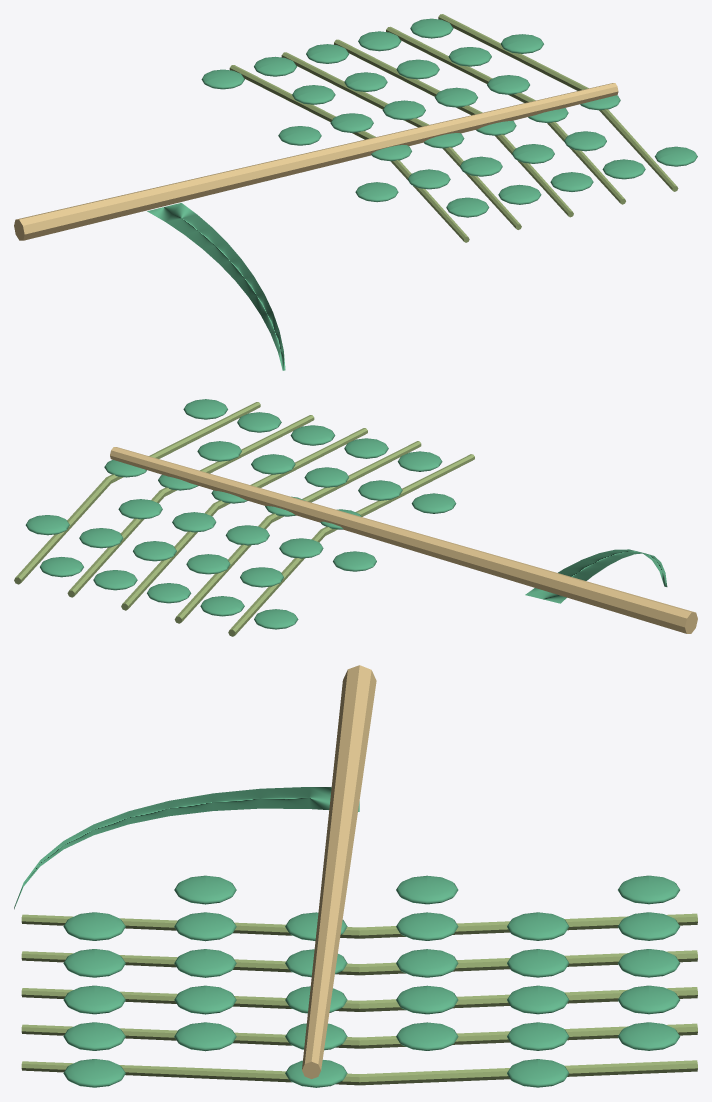
The model's file is seaweed_strand_line_tropical_island_and_palm_trees_6839.glb.
3 renders of one model, top to bottom at view 1: azimuth 30°, elevation 25°; view 2: azimuth 150°, elevation 25°; view 3: azimuth 270°, elevation 25°, orthographic. The views are drawn at different scales.
Visible parts, largest first — view 1: strand-line; view 2: strand-line; view 3: strand-line.
Boxes of the visible parts, <box> form: strand-line: <box>14,14,697,370</box>; strand-line: <box>14,399,697,636</box>; strand-line: <box>14,665,697,1087</box>.
Bounding box in the file's own units: 2.02 × 0.3498 × 1.42.
